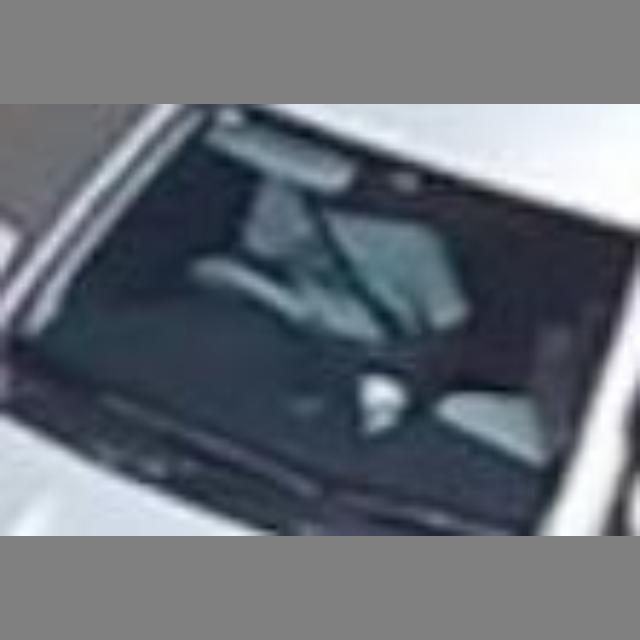pakai: (202, 150, 479, 444)
